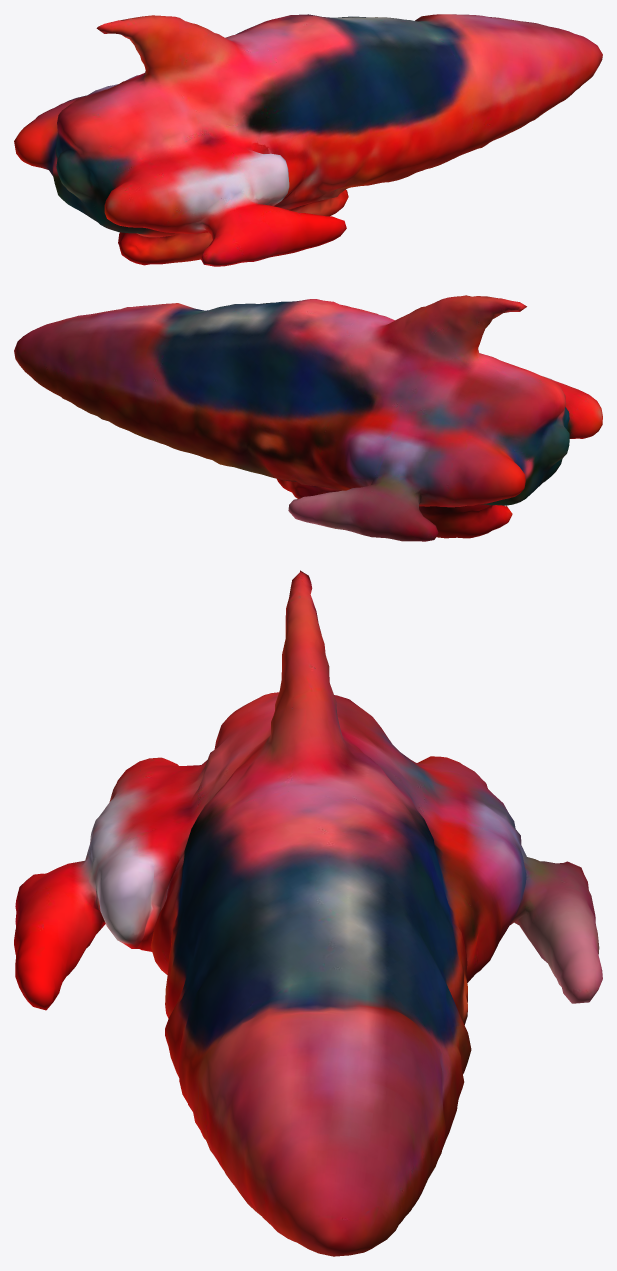
Rendered from Red_ship_5.glb.
3 views of the same model, one above another, from view 1: azimuth 30°, elevation 25°; view 2: azimuth 150°, elevation 25°; view 3: azimuth 270°, elevation 25° (orthographic). The views are drawn at different scales.
Visible parts, largest first — view 1: Mesh1; view 2: Mesh1; view 3: Mesh1.
Part boxes in pixels (x1=…): Mesh1: x1=14, y1=14, x2=602, y2=266; Mesh1: x1=14, y1=295, x2=602, y2=541; Mesh1: x1=14, y1=570, x2=602, y2=1256.
Bounding box in the file's own units: 1.2 × 0.5311 × 0.6749.
Materials: 1 (1 with a texture image).
